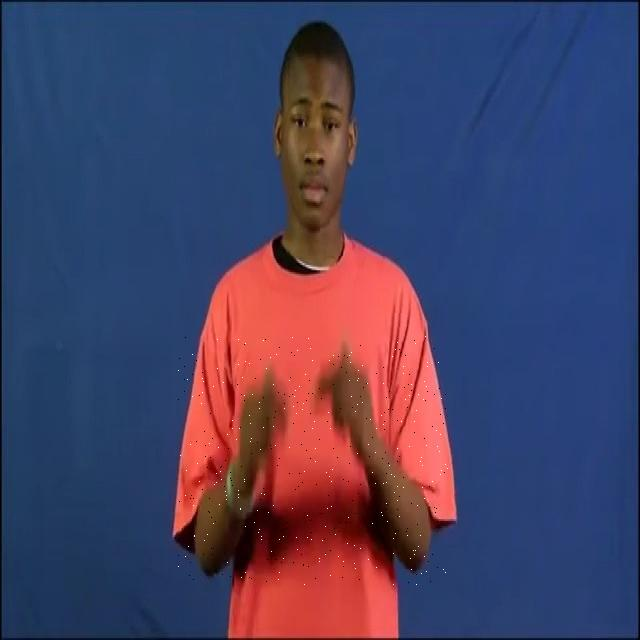bacon: (178, 336, 448, 585)
